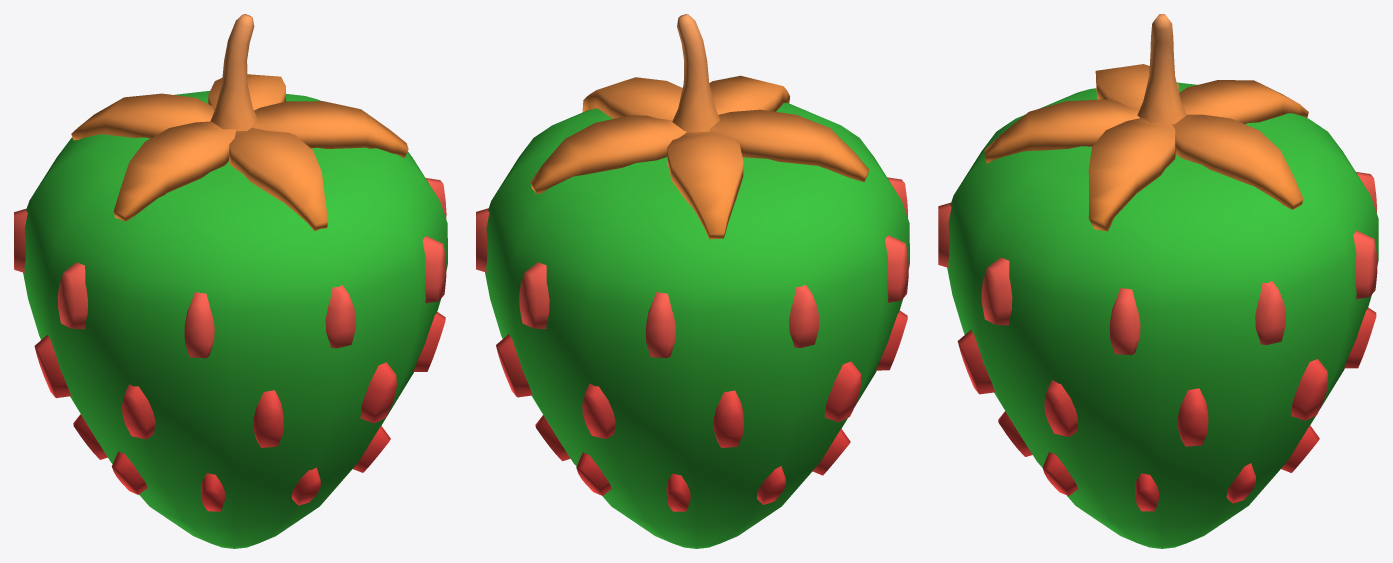
The model's file is Strawberry.fbx.
3 renders of one model, left to right at view 1: azimuth 30°, elevation 25°; view 2: azimuth 150°, elevation 25°; view 3: azimuth 270°, elevation 25°, orthographic.
Visible parts, largest first — view 1: Strawberry; view 2: Strawberry; view 3: Strawberry.
Part boxes in pixels (x1,y1,x2,y2): Strawberry: (14, 14, 447, 548); Strawberry: (476, 14, 909, 548); Strawberry: (938, 14, 1378, 548).
Size of the model in its own units: 57.75 by 76.48 by 57.09.
